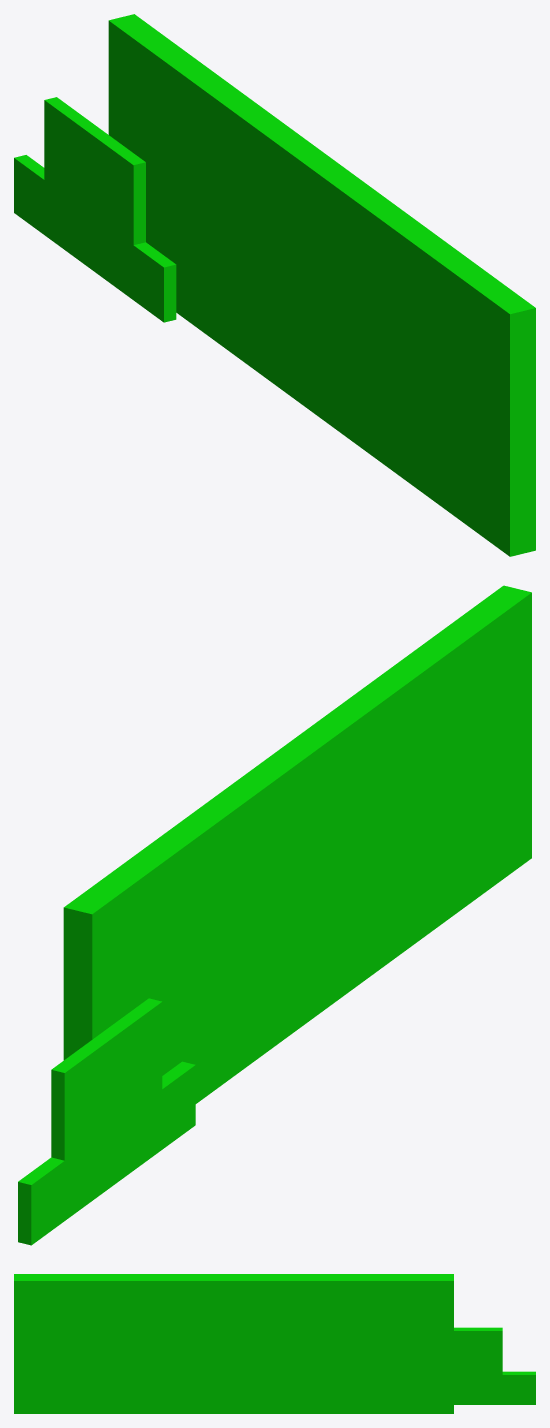
File: UCX_WindFence.fbx
3 views of the same model, one above another, from view 1: azimuth 30°, elevation 25°; view 2: azimuth 150°, elevation 25°; view 3: azimuth 270°, elevation 25° (orthographic). The views are drawn at different scales.
Parts seen in each view (by area): view 1: UCX_Fence2m, UCX_Fence3m, UCX_Wind, UCX_WindNarrow, UCX_Fence1m; view 2: UCX_Fence3m, UCX_Fence2m, UCX_Wind, UCX_WindNarrow, UCX_Fence1m; view 3: UCX_Fence2m, UCX_Fence3m, UCX_Fence1m, UCX_Wind, UCX_WindNarrow.
Part boxes in pixels (box(x1,y1,x2,y2)): UCX_Fence2m: box(108, 14, 400, 457); UCX_Fence3m: box(108, 15, 535, 556); UCX_Wind: box(44, 97, 145, 298); UCX_WindNarrow: box(14, 155, 176, 322); UCX_Fence1m: box(108, 14, 265, 337); UCX_Fence3m: box(65, 585, 531, 1103); UCX_Fence2m: box(63, 694, 383, 1103); UCX_Wind: box(51, 998, 162, 1220); UCX_WindNarrow: box(18, 1061, 195, 1245); UCX_Fence1m: box(66, 803, 234, 1103); UCX_Fence2m: box(162, 1274, 453, 1413); UCX_Fence3m: box(14, 1274, 453, 1413); UCX_Fence1m: box(309, 1274, 453, 1413); UCX_Wind: box(454, 1327, 502, 1404); UCX_WindNarrow: box(454, 1371, 535, 1404).
Bounding box in the file's own units: 17.54 × 89.38 × 318.
